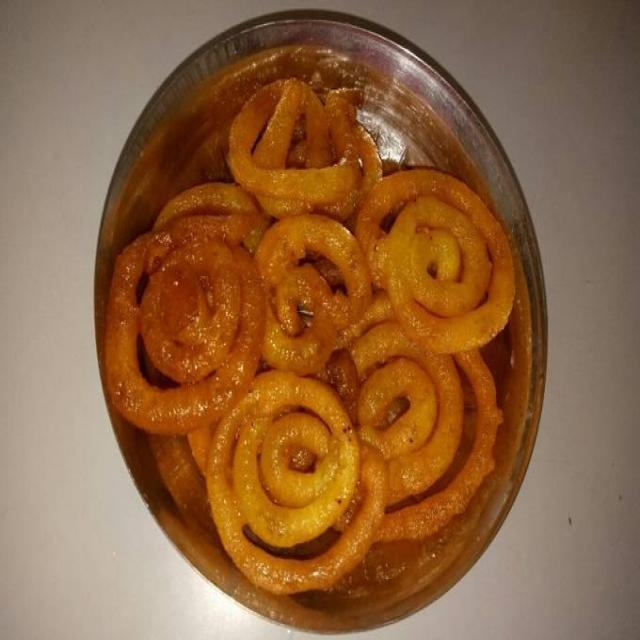jalebi: (106, 40, 533, 610)
